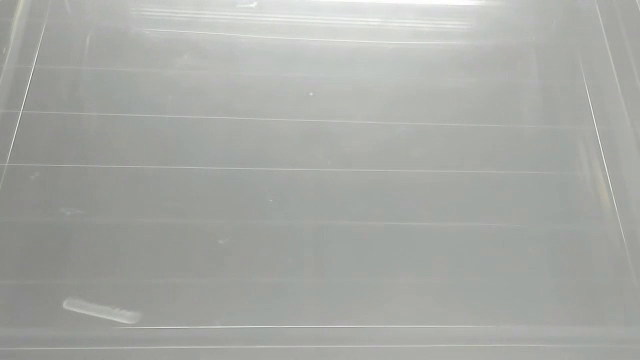alpha: (59, 294, 144, 326)
